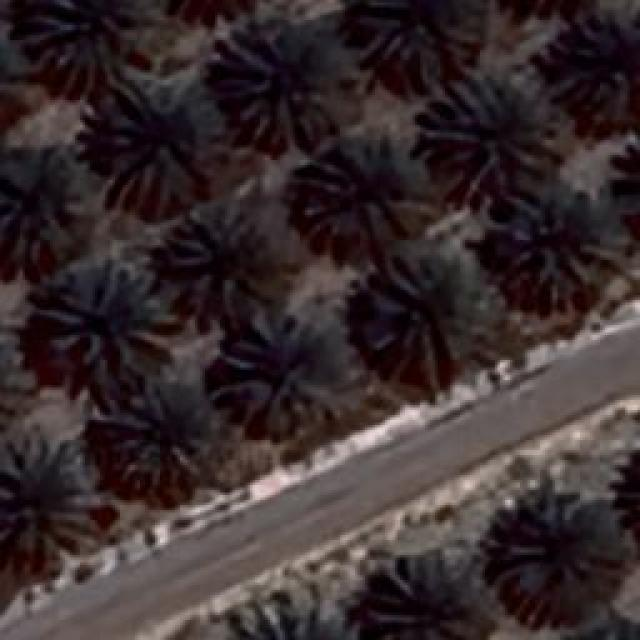PalmTree: (417, 68, 565, 202), (360, 250, 495, 380), (499, 484, 629, 614), (45, 262, 185, 368), (361, 535, 499, 640), (292, 142, 418, 248), (215, 312, 320, 438), (215, 30, 328, 145), (492, 188, 602, 300), (0, 435, 98, 555), (0, 144, 85, 274), (108, 374, 202, 488), (100, 82, 192, 196), (20, 0, 148, 80), (547, 2, 635, 100), (172, 202, 258, 300), (355, 0, 475, 60), (225, 595, 353, 640), (601, 136, 640, 240), (0, 48, 40, 139), (610, 451, 640, 552), (0, 332, 32, 425), (561, 619, 640, 640)
